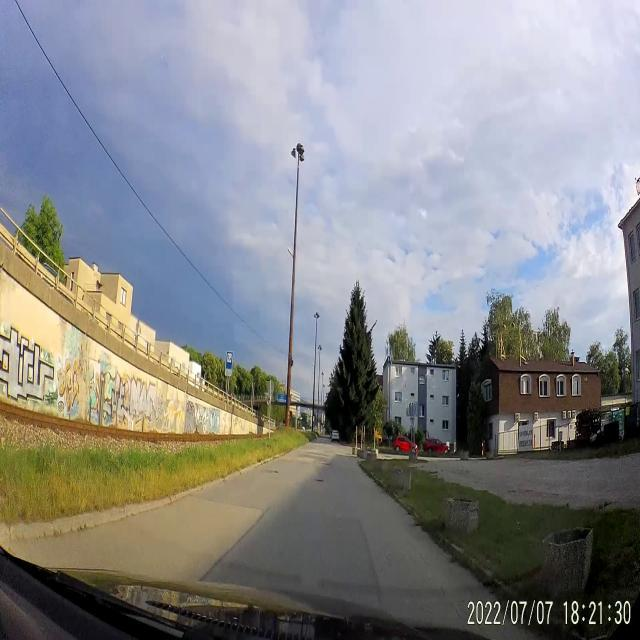Pothole: (258, 466, 279, 478), (310, 474, 326, 488)
